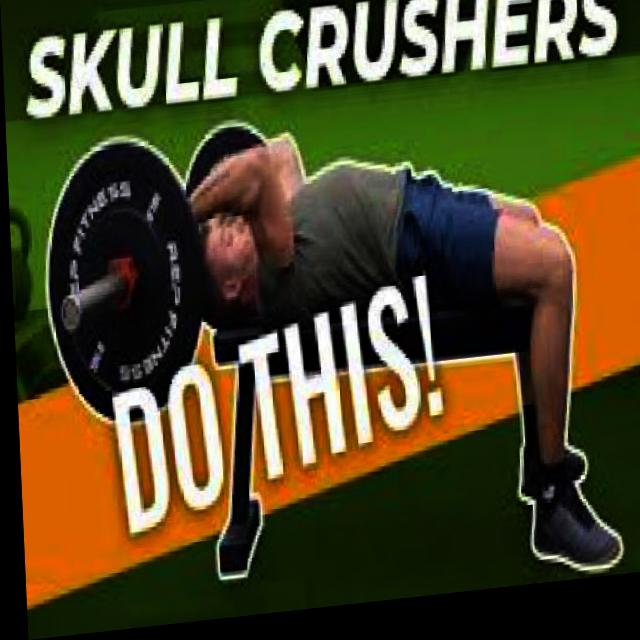barbell: (36, 126, 209, 442)
